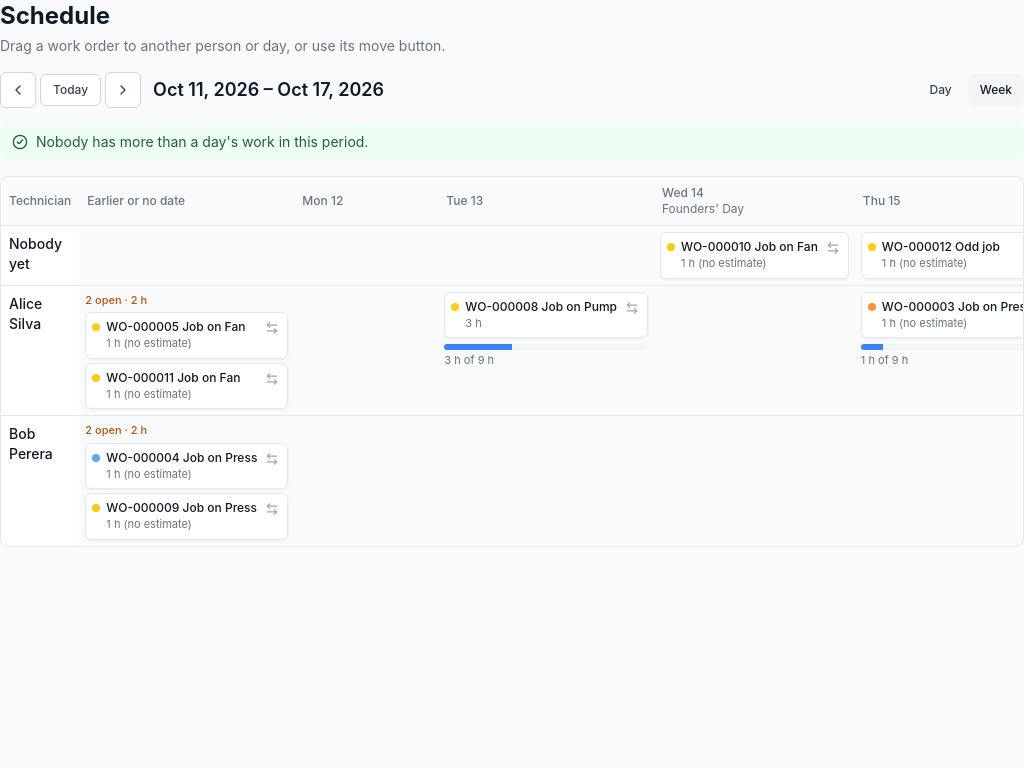
Test: the schedule › the move button, for those who cannot drag › starts from where the work order is, so there is nothing to move until something is changed
expect the column heading "Alice Silva" is shown: met, box [1,285,79,416]
Click the button named "Move WO-000008".
click(632, 308)  # box [623,298,641,316]
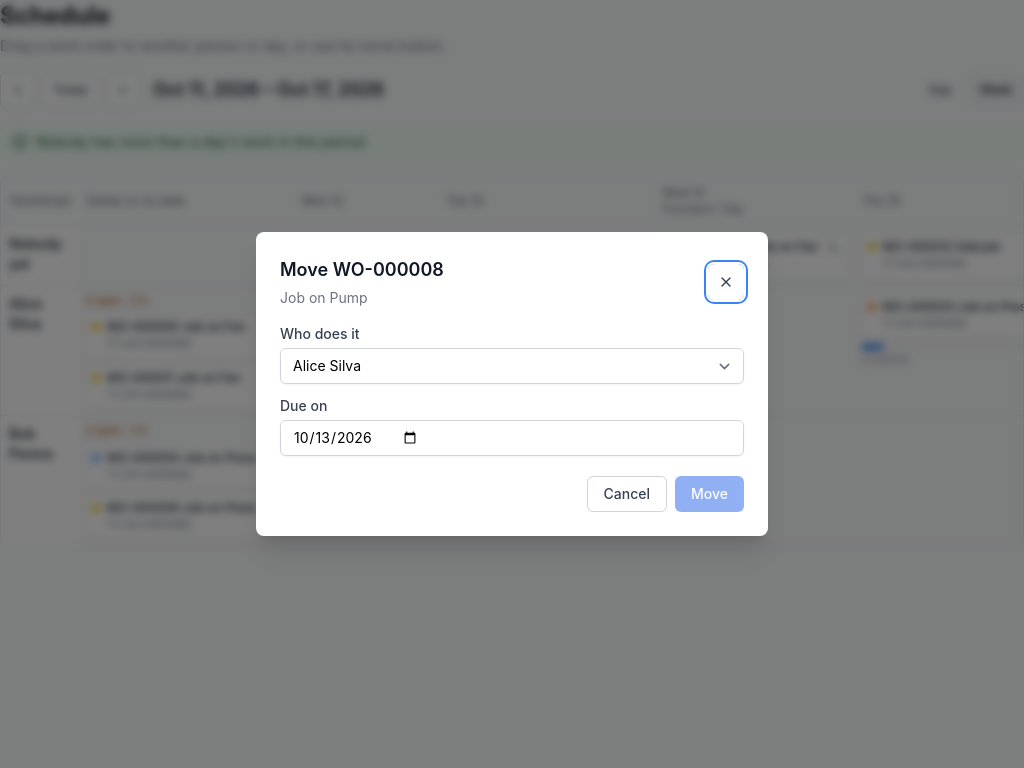
expect the dropdown labelled "Who does it" shows "Alice Silva": met, box [280,348,744,384]
expect the date field labelled "Due on" holds "2026-10-13": met, box [280,420,744,456]
expect the button "Move" is disabled: met, box [675,476,744,512]
